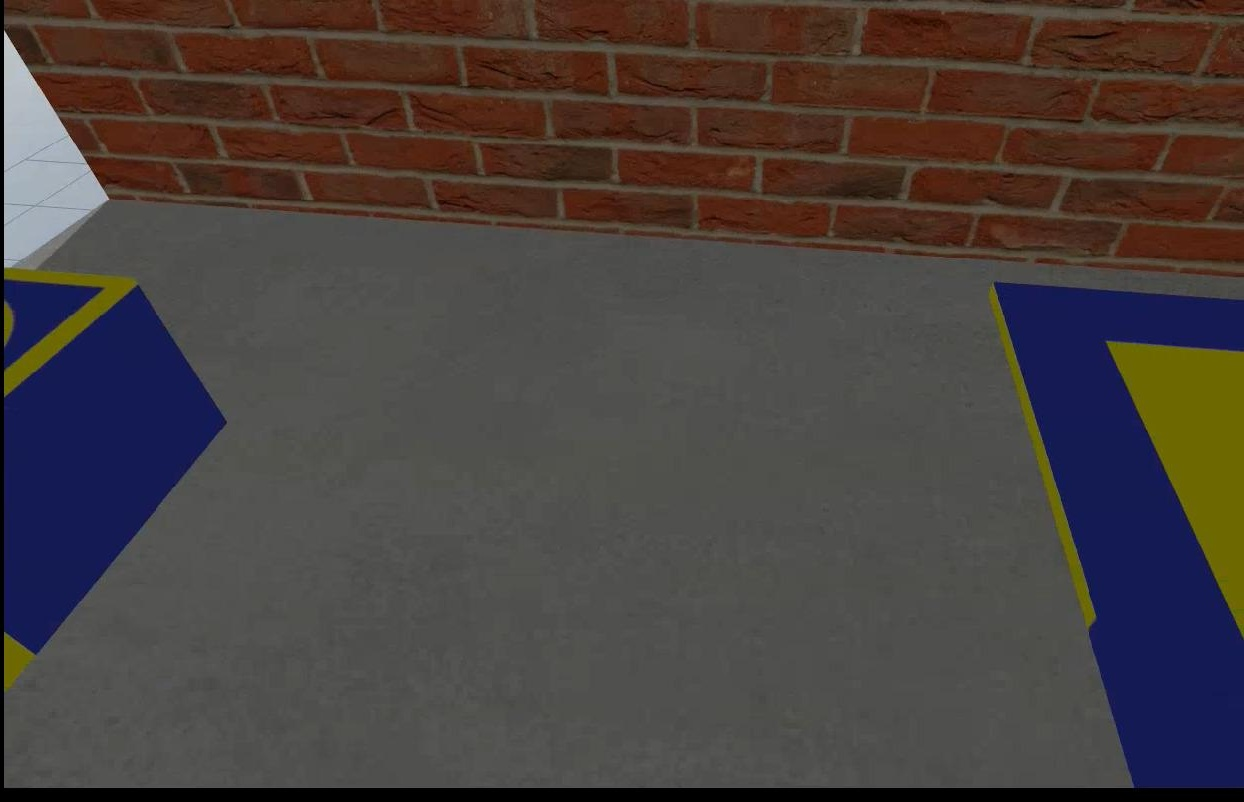large_base: (988, 281, 1242, 783)
small_base: (0, 270, 143, 411)
